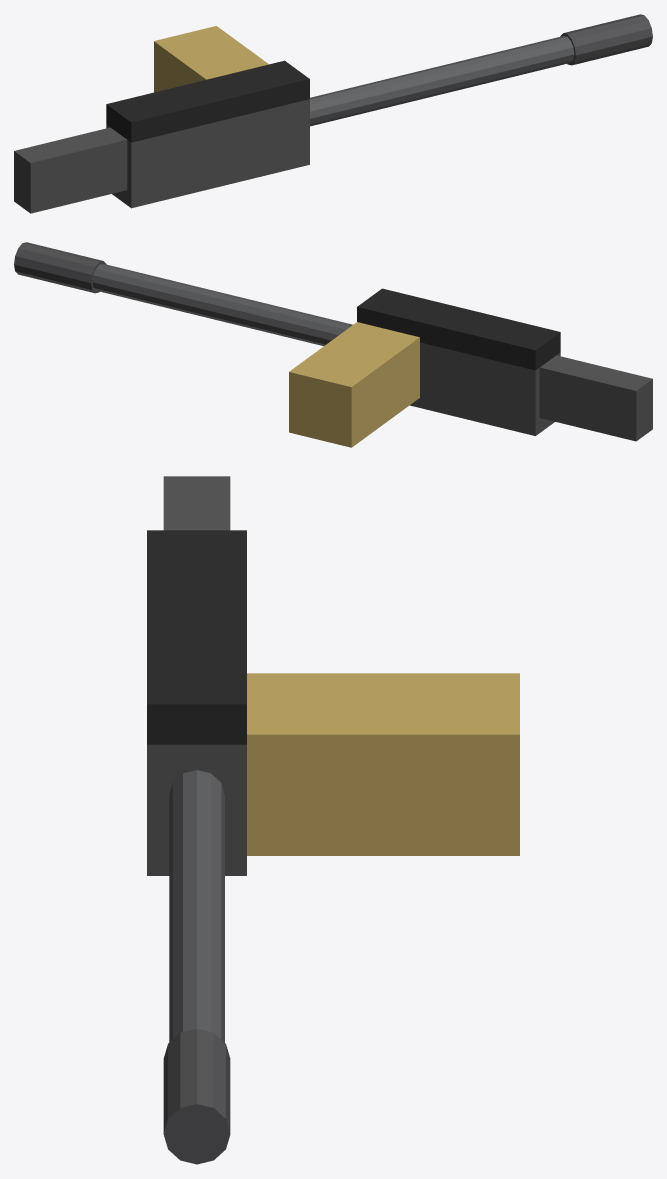
The model's file is ce_m240b_gun.obj.
3 views of the same model, one above another, from view 1: azimuth 30°, elevation 25°; view 2: azimuth 150°, elevation 25°; view 3: azimuth 270°, elevation 25° (orthographic). The views are drawn at different scales.
Visible parts, largest first — view 1: ce_m240b_gun_receiver, ce_m240b_gun_cover, ce_m240b_gun_barrel, ce_m240b_gun_stock, ce_m240b_gun_beltbox, ce_m240b_gun_hider; view 2: ce_m240b_gun_beltbox, ce_m240b_gun_cover, ce_m240b_gun_receiver, ce_m240b_gun_stock, ce_m240b_gun_barrel, ce_m240b_gun_hider; view 3: ce_m240b_gun_beltbox, ce_m240b_gun_cover, ce_m240b_gun_barrel, ce_m240b_gun_hider, ce_m240b_gun_receiver, ce_m240b_gun_stock.
Part boxes in pixels (x1=…): ce_m240b_gun_receiver: x1=106, y1=99, x2=309, y2=208; ce_m240b_gun_cover: x1=106, y1=60, x2=309, y2=142; ce_m240b_gun_barrel: x1=310, y1=36, x2=574, y2=126; ce_m240b_gun_stock: x1=14, y1=127, x2=127, y2=213; ce_m240b_gun_beltbox: x1=154, y1=26, x2=268, y2=92; ce_m240b_gun_hider: x1=560, y1=14, x2=652, y2=65; ce_m240b_gun_beltbox: x1=289, y1=322, x2=419, y2=447; ce_m240b_gun_cover: x1=357, y1=288, x2=560, y2=370; ce_m240b_gun_receiver: x1=410, y1=342, x2=560, y2=435; ce_m240b_gun_stock: x1=539, y1=355, x2=652, y2=441; ce_m240b_gun_barrel: x1=92, y1=263, x2=352, y2=346; ce_m240b_gun_hider: x1=14, y1=242, x2=106, y2=293; ce_m240b_gun_beltbox: x1=247, y1=673, x2=519, y2=855; ce_m240b_gun_cover: x1=147, y1=530, x2=246, y2=744; ce_m240b_gun_barrel: x1=169, y1=770, x2=224, y2=1042; ce_m240b_gun_hider: x1=163, y1=1028, x2=230, y2=1164; ce_m240b_gun_receiver: x1=147, y1=744, x2=246, y2=875; ce_m240b_gun_stock: x1=163, y1=476, x2=230, y2=530.
Bounding box in the file's own units: 1.29 × 0.17 × 0.335.
